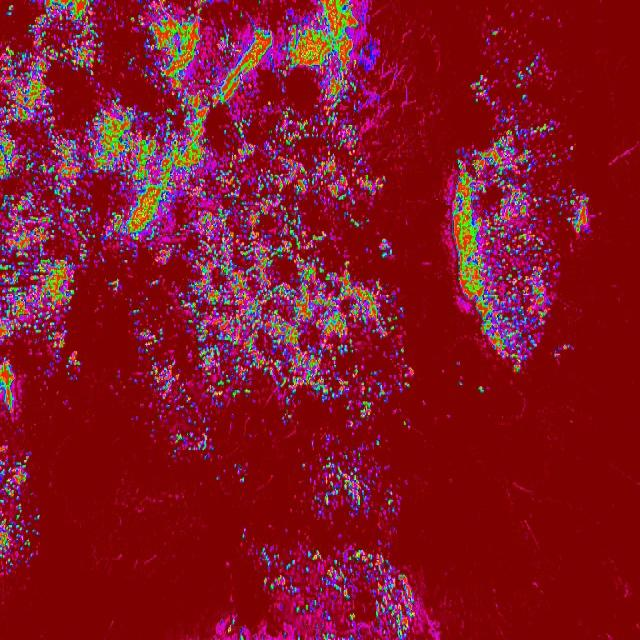fire: (0, 0, 409, 262), (128, 263, 418, 459), (454, 147, 558, 369), (248, 536, 426, 640), (0, 263, 80, 373), (470, 64, 558, 147), (310, 459, 404, 526), (0, 449, 43, 571), (0, 373, 28, 422), (566, 190, 592, 239)
